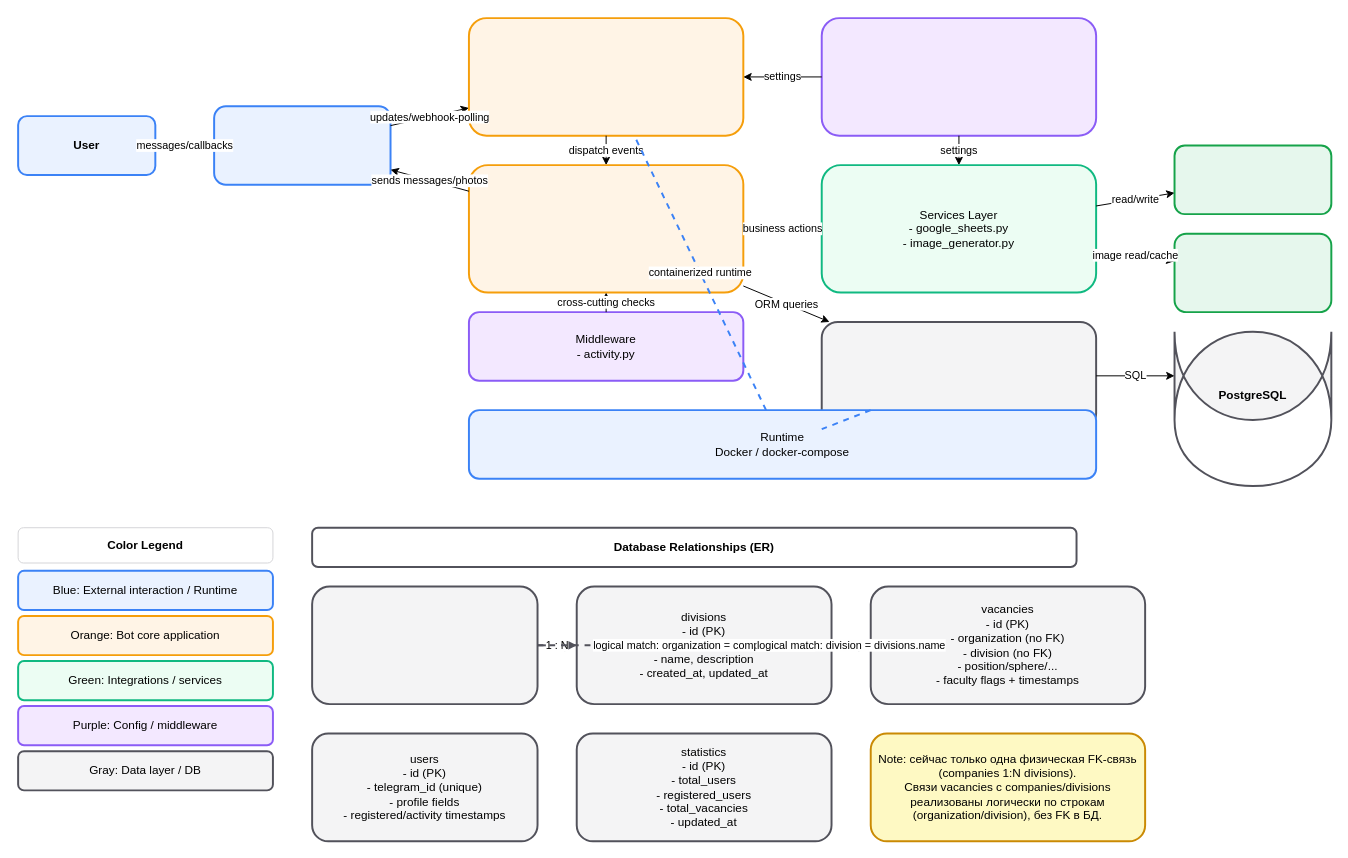
Some shapes in this 1348 by 858 pixel diagram are drawn without their labels. The shapes that lost their labels are listed below. From the top down, each one's centre as x and y in pixels, then its label:
the point at 605,76: Bot Application (Python / aiogram) main.py router wiring + startup
the point at 958,76: Configuration config.py + .env
the point at 302,145: Telegram Platform (Bot API)
the point at 1252,179: Google Sheets
the point at 605,228: Handlers Layer - registration.py - vacancies.py - admin.py
the point at 1252,272: Local Files /assets/images /cache/images
the point at 958,375: Data Layer SQLAlchemy async database/models.py database/db.py
the point at 424,645: companies - id (PK) - name (unique) - description - created_at, updated_at
